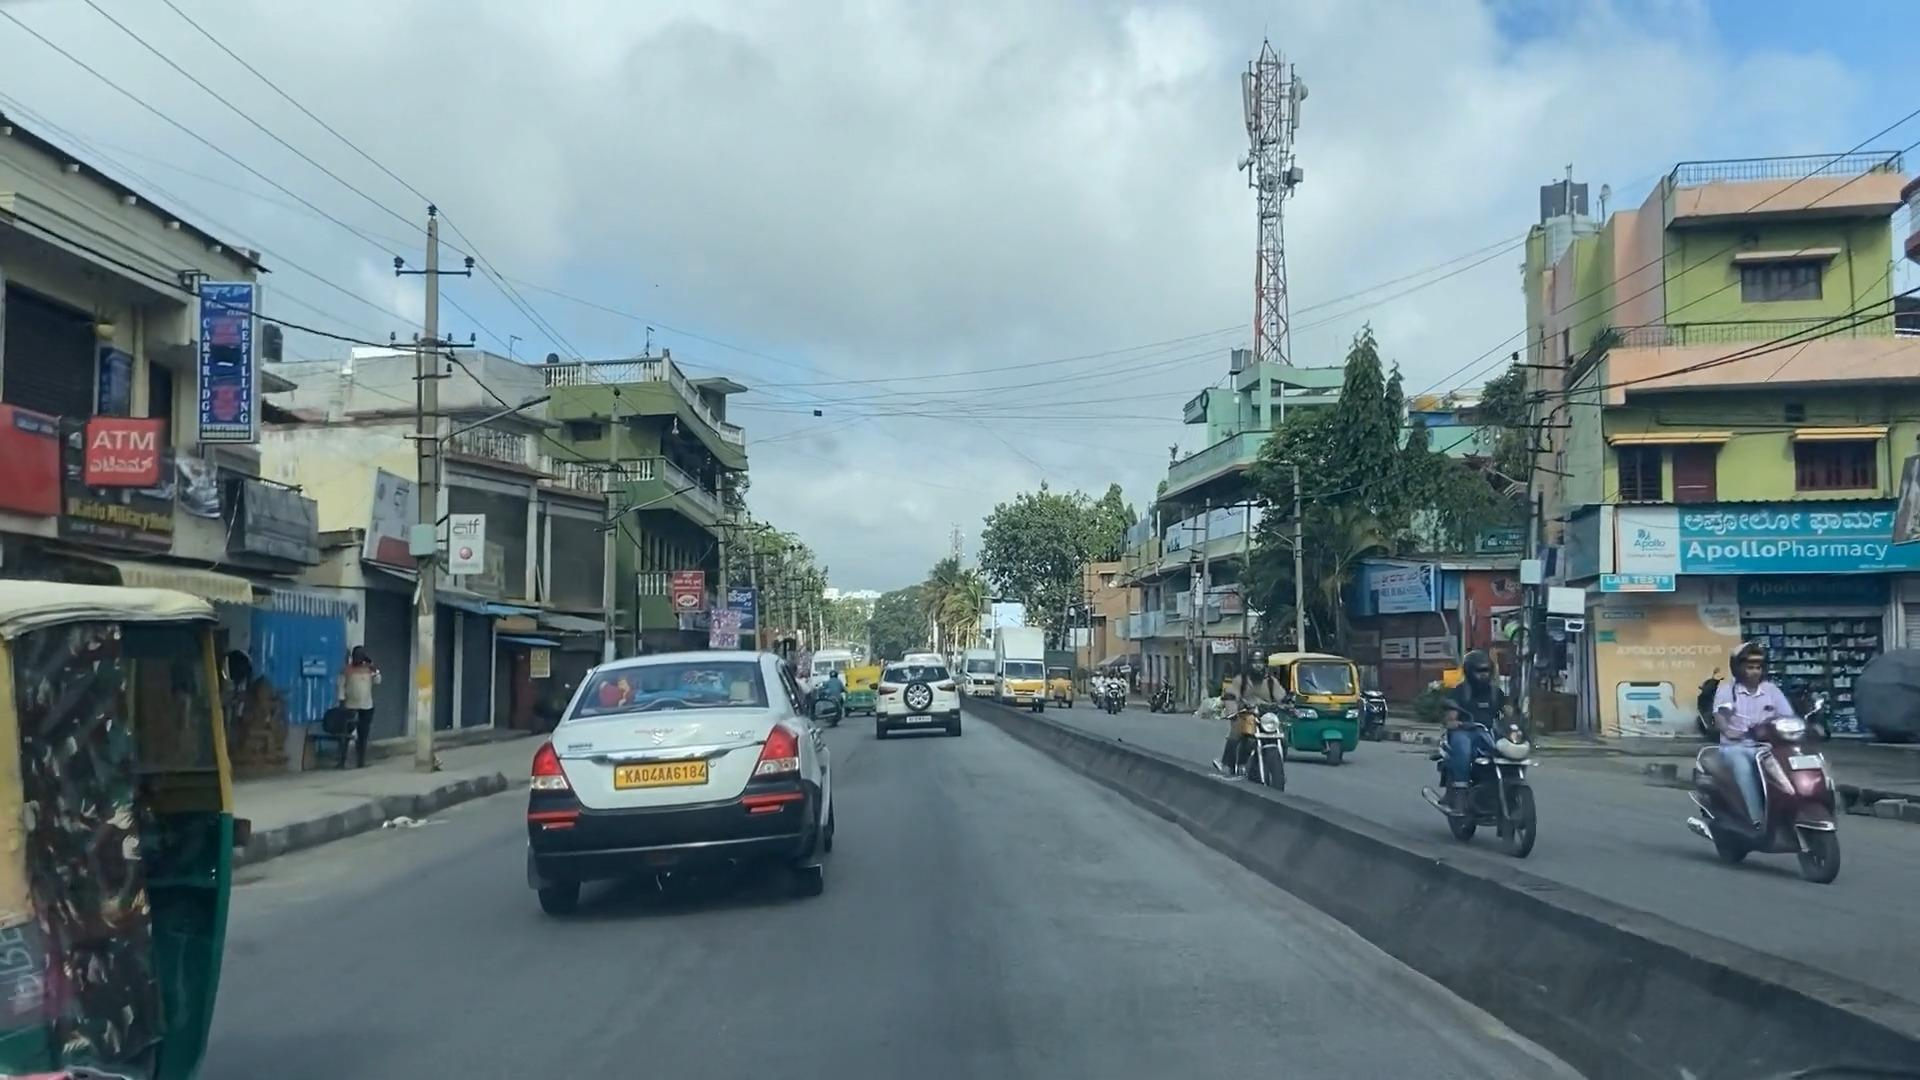LMV: (530, 651, 836, 913), (882, 659, 959, 736)
